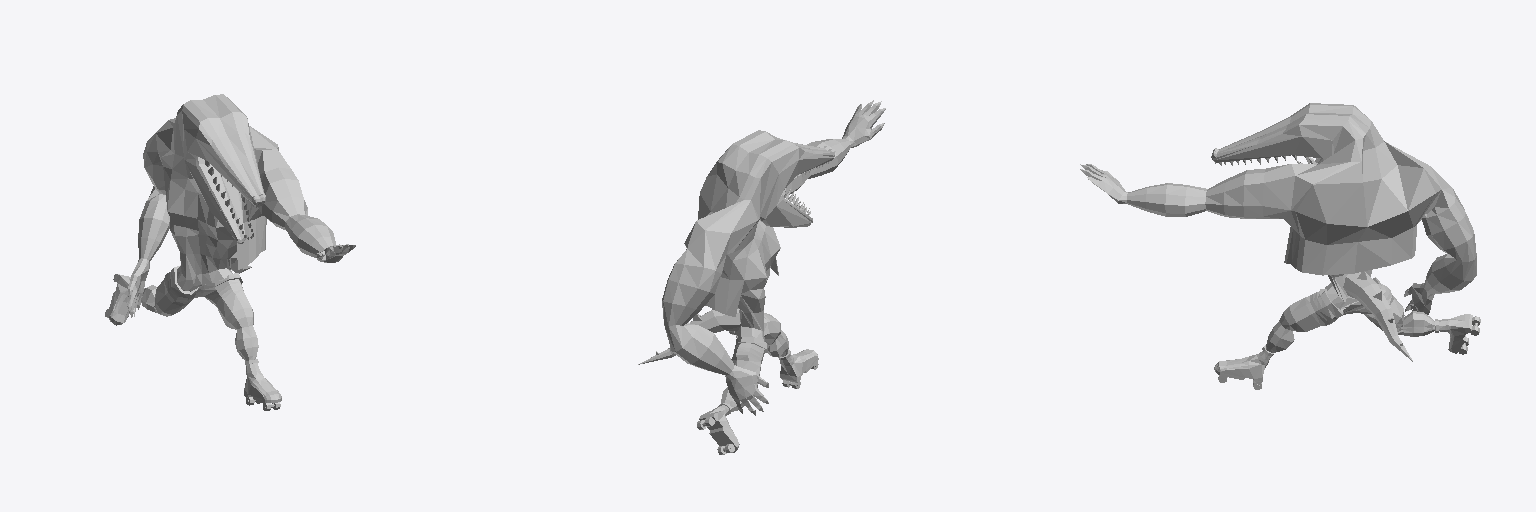
Rendered from cocodrilaBonesSelect_000030.obj.
The picture shows the model from 3 angles: view 1: azimuth 30°, elevation 25°; view 2: azimuth 150°, elevation 25°; view 3: azimuth 270°, elevation 25°; orthographic projection.
Parts seen in each view (by area): view 1: Crocodile.002_Cylinder.002; view 2: Crocodile.002_Cylinder.002; view 3: Crocodile.002_Cylinder.002.
Boxes of the visible parts, <box> form: Crocodile.002_Cylinder.002: <box>105,94,355,410</box>; Crocodile.002_Cylinder.002: <box>638,100,885,454</box>; Crocodile.002_Cylinder.002: <box>1080,103,1480,389</box>.
Bounding box in the file's own units: 2.91 × 5.95 × 7.9.